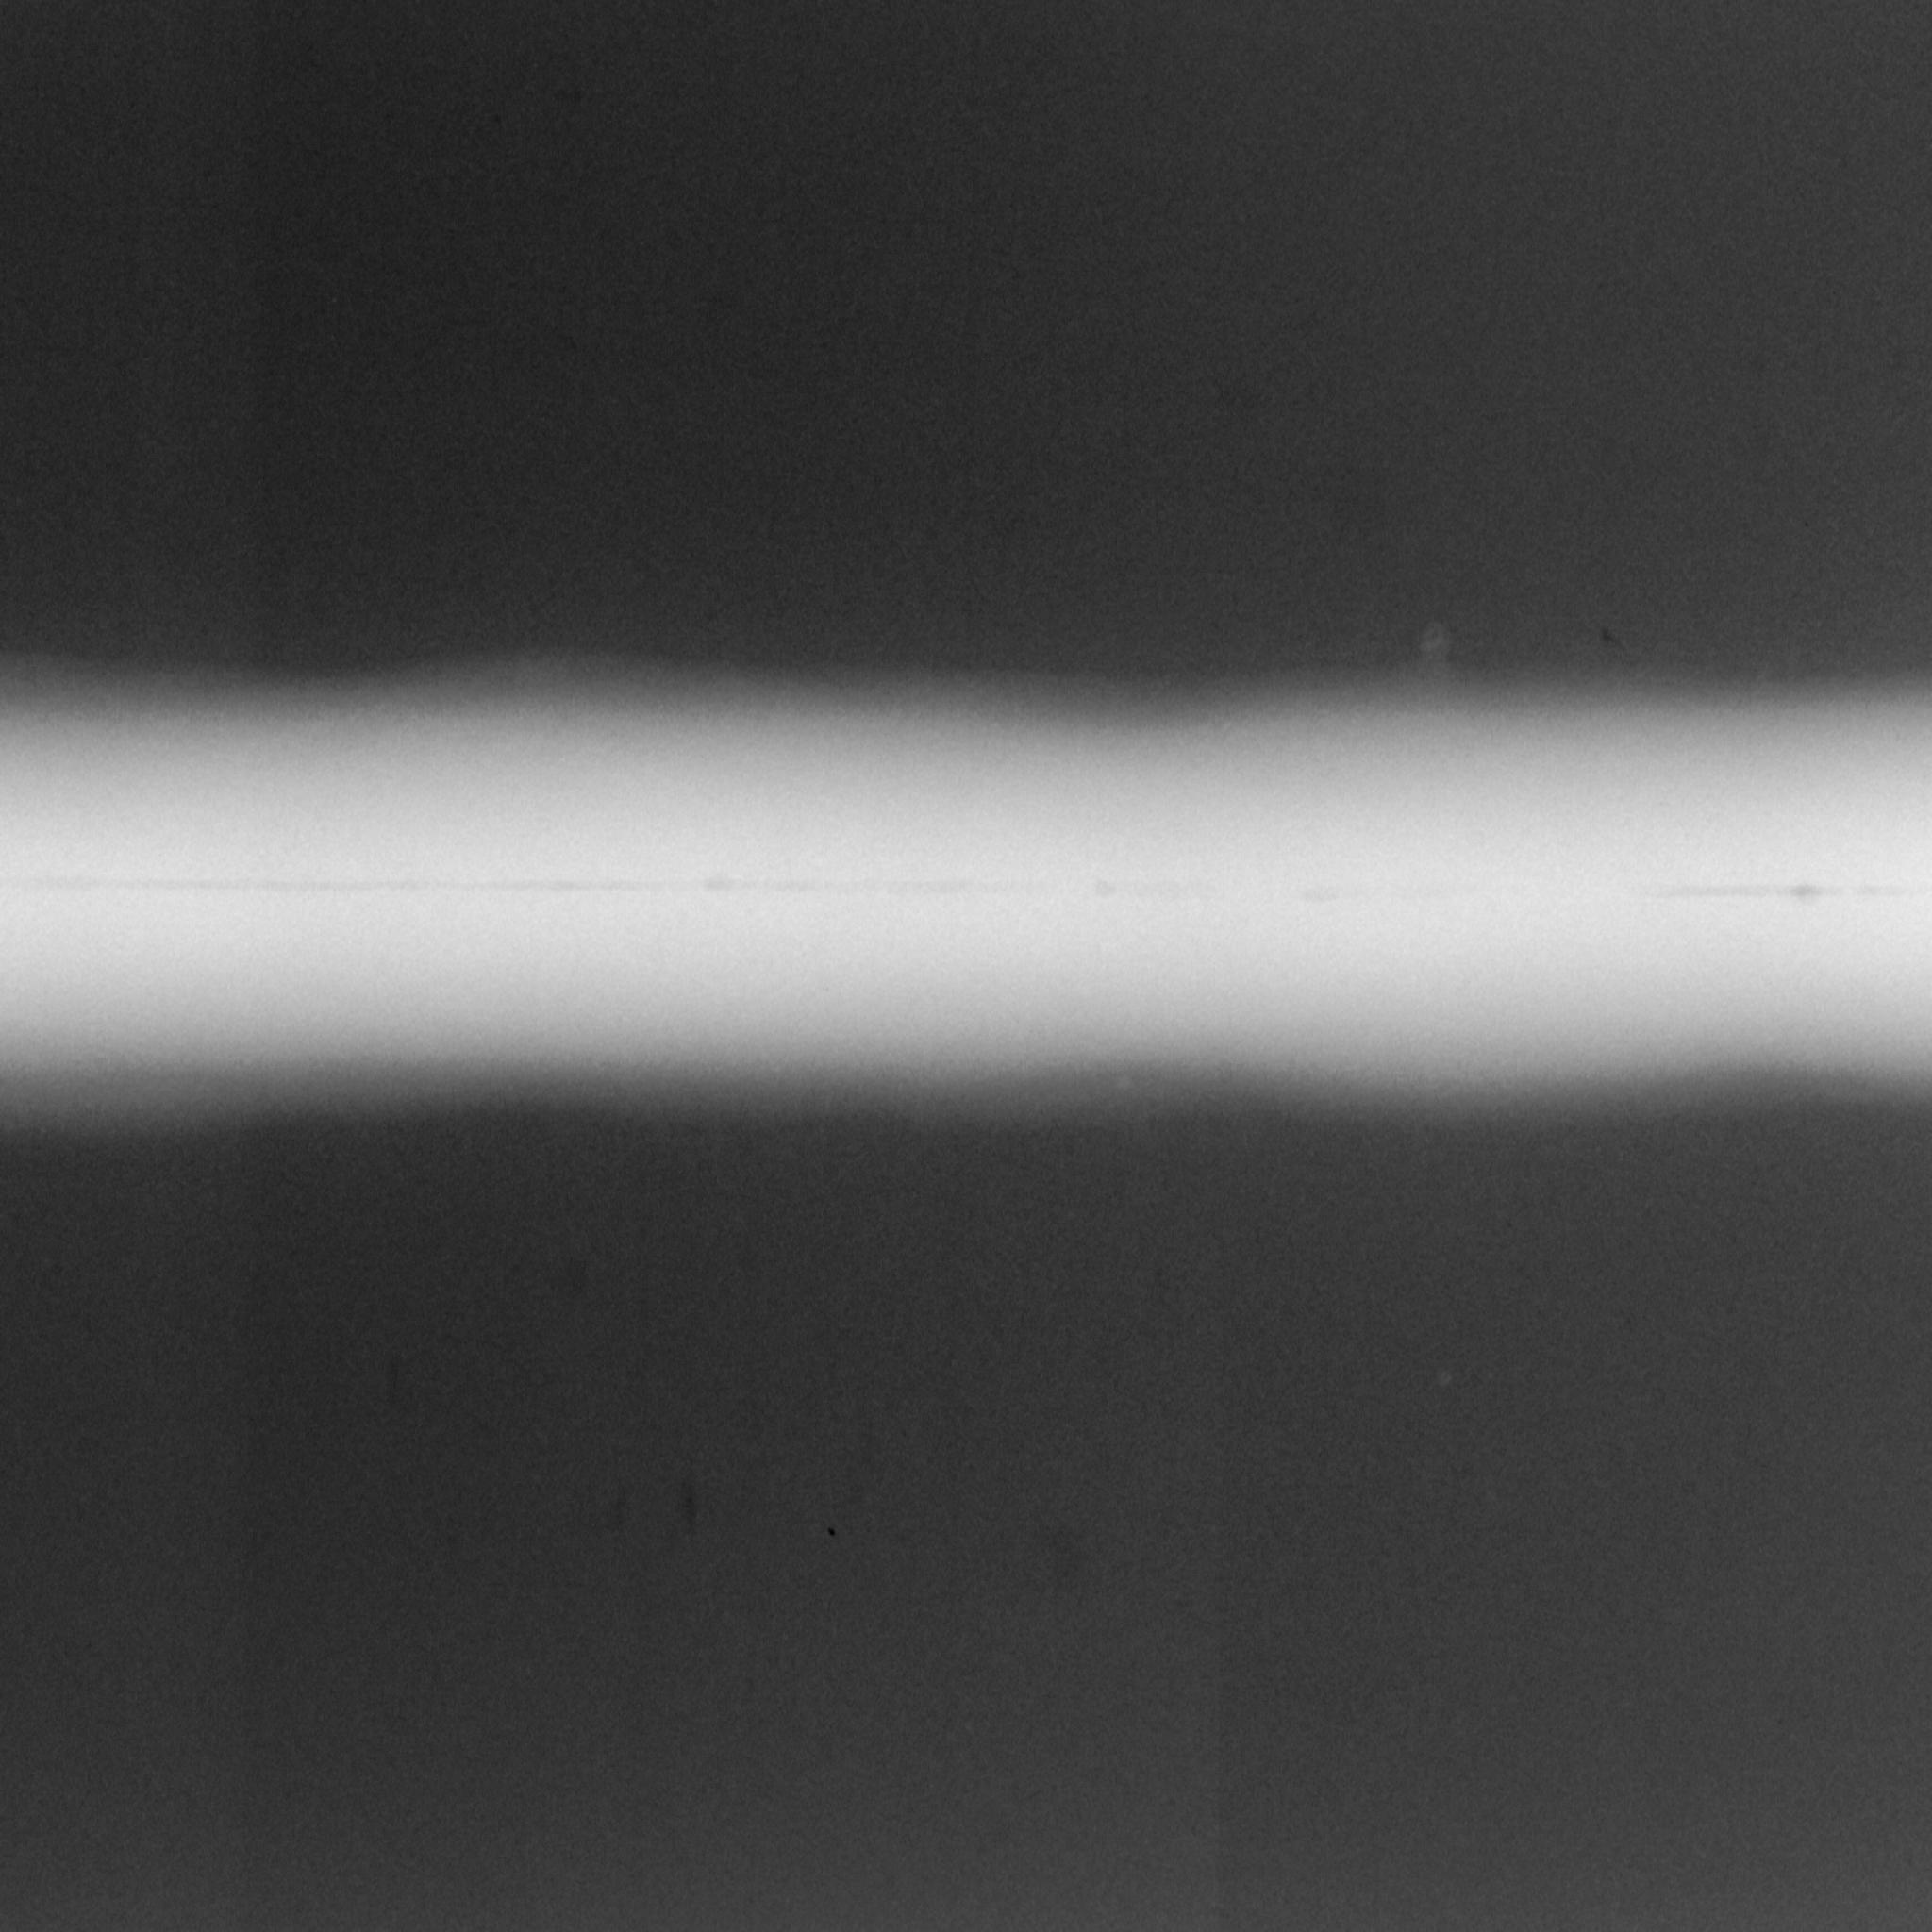Solda Ruim: (0, 587, 1932, 1164)
